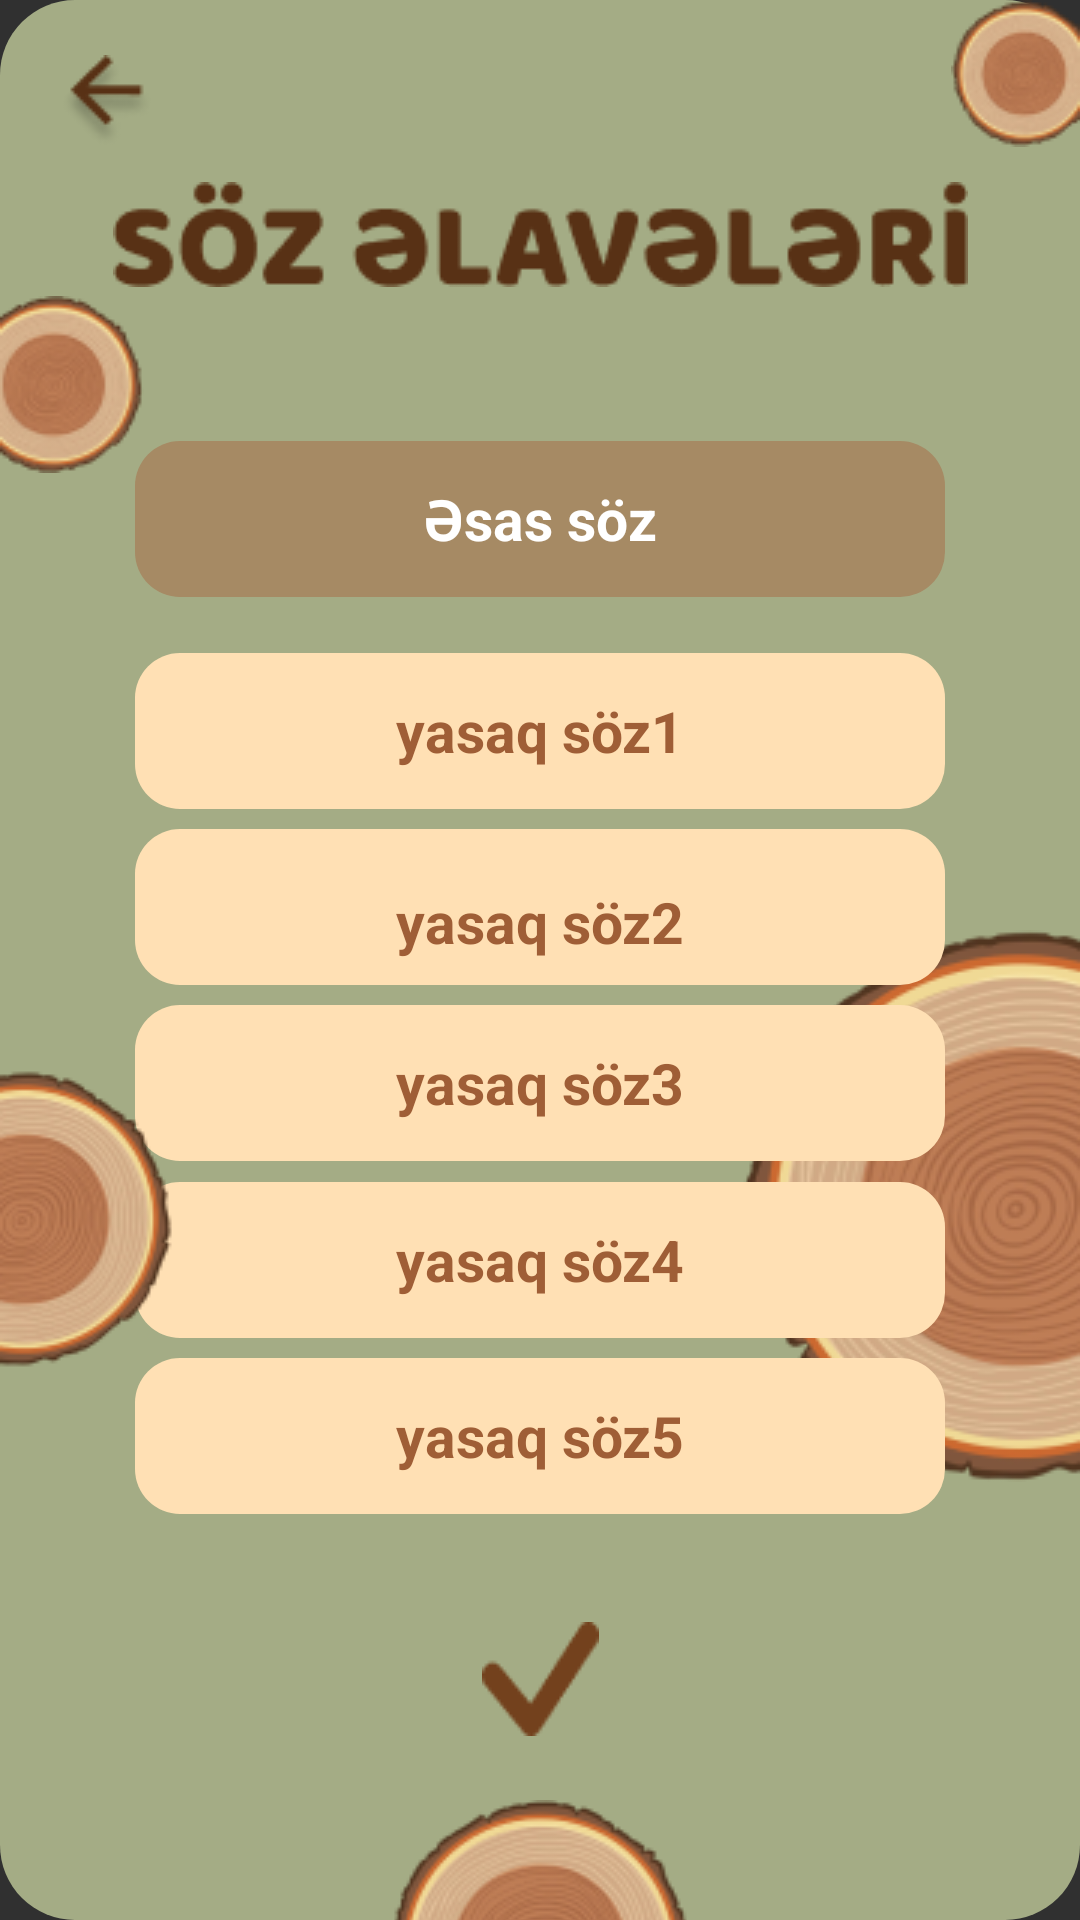

Icons on this 1080*1920 Android screen, each with the point to tap as (x,y):
arrow: (106,91)
checkk: (540,1679)
